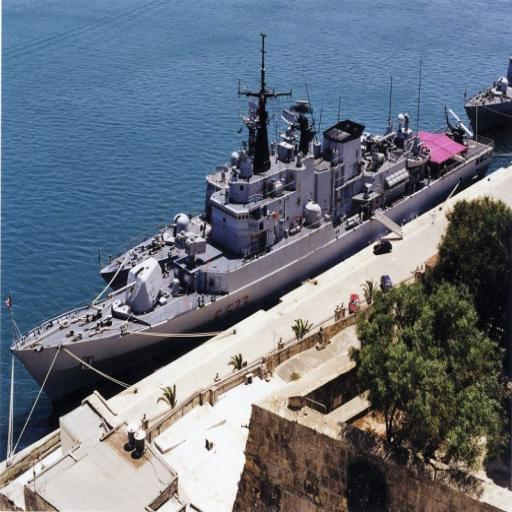Fragata: (9, 42, 496, 417)
